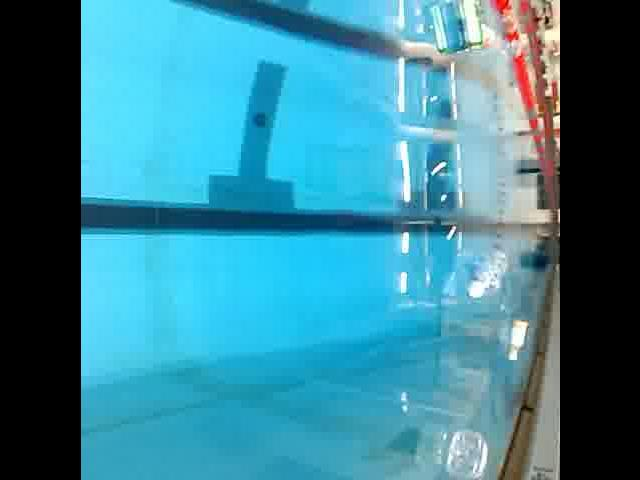Bottle: (458, 244, 516, 304), (442, 425, 490, 480), (504, 316, 530, 366)
Can: (443, 0, 487, 58)
